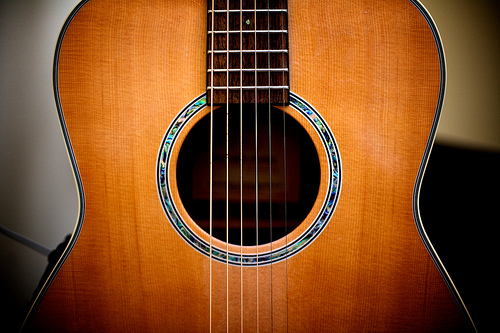guitar: (11, 1, 479, 333)
